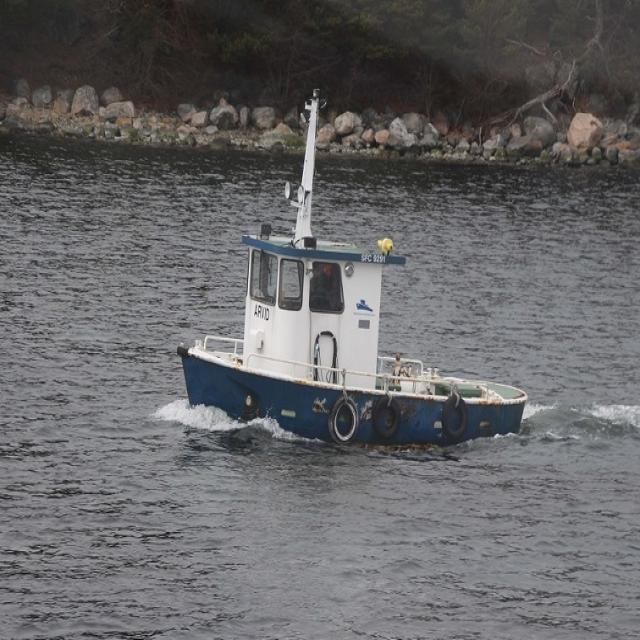houseboat: (175, 94, 524, 460)
